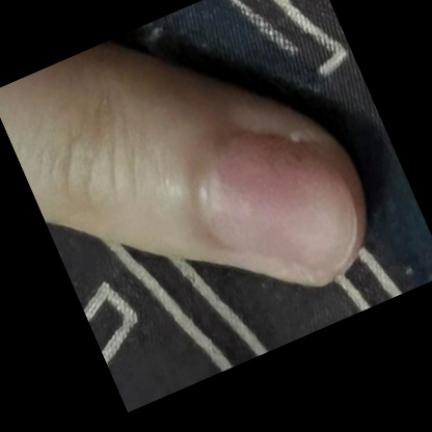Nail: (204, 134, 357, 274)
